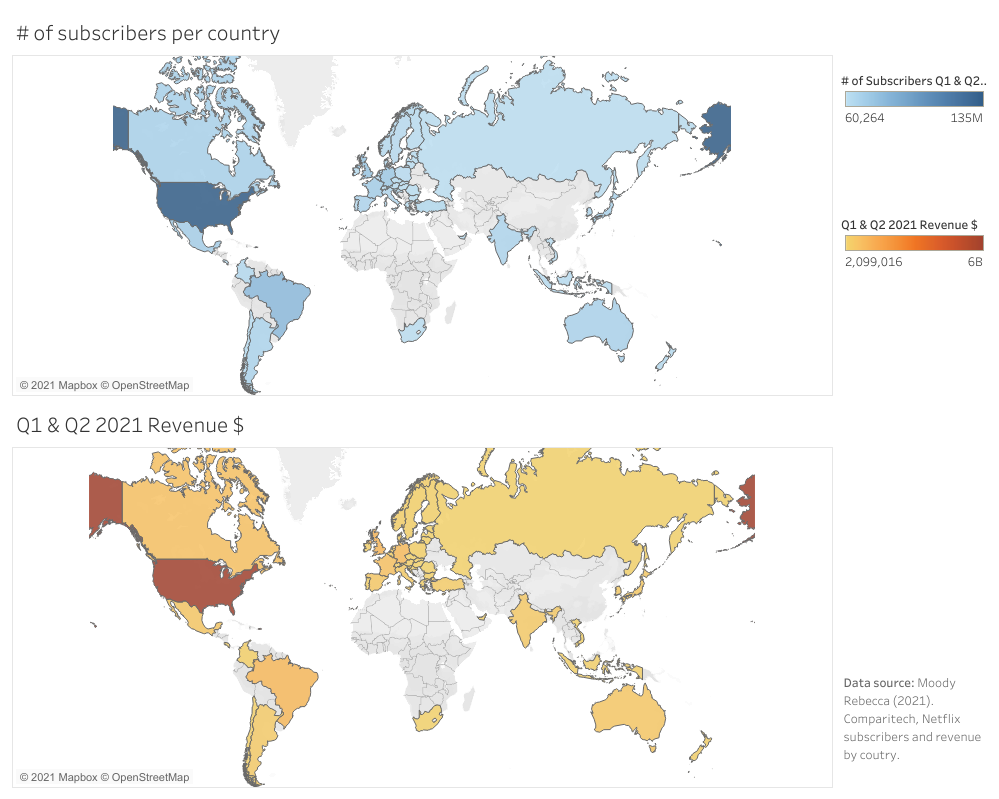

Layout of this report page (visuals, bound fields, positions):
{"tool":"tableau","page":{"name":"UnitedStates","canvas":[1000,800],"ordinal":0},"visuals":[{"type":"worksheet","box":[0,0,1000,800]},{"type":"worksheet","param":"horz","box":[8,8,984,784]},{"type":"worksheet","box":[8,8,829,784]},{"type":"worksheet","title":"# of subscribers per country","mark":"Automatic","box":[8,8,829,392]},{"type":"worksheet","param":"vert","box":[837,8,155,784]},{"type":"worksheet","box":[837,8,155,55]},{"type":"worksheet","title":"# of subscribers per country","mark":"Automatic","param":"[federated.1avpq9p092efvz16hqupi0uihigk].[sum:Calculation_755760314329587712:qk]","box":[837,63,155,144]},{"type":"worksheet","title":"Q1 & Q2 2021 Revenue $","mark":"Automatic","param":"[federated.1avpq9p092efvz16hqupi0uihigk].[sum:Calculation_755760314331033601:qk]","box":[837,207,155,146]},{"type":"worksheet","box":[837,353,155,290]},{"type":"worksheet","title":"Q1 & Q2 2021 Revenue $","mark":"Automatic","box":[8,400,829,392]},{"type":"worksheet","box":[837,643,155,149]}]}

Visuals, with their boxes in screenshot pixels (x1, y1, x2, y2), scaled from the page's 1000x800 canvas onto the 999x799 screenshot:
worksheet: <box>0,0,998,798</box>
worksheet: <box>8,8,991,791</box>
worksheet: <box>8,8,836,791</box>
"# of subscribers per country" worksheet: <box>8,8,836,400</box>
worksheet: <box>836,8,991,791</box>
worksheet: <box>836,8,991,63</box>
"# of subscribers per country" worksheet: <box>836,63,991,207</box>
"Q1 & Q2 2021 Revenue $" worksheet: <box>836,207,991,353</box>
worksheet: <box>836,353,991,642</box>
"Q1 & Q2 2021 Revenue $" worksheet: <box>8,400,836,791</box>
worksheet: <box>836,642,991,791</box>
